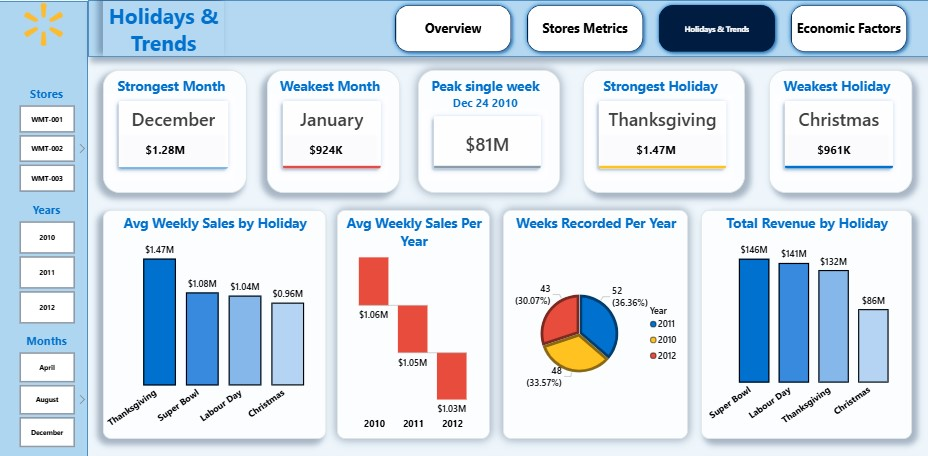

The dashboard page shown, as its layout file describes it:
{"tool":"powerbi","page":{"name":"Holidays & Trends","canvas":[1650,810],"ordinal":2},"visuals":[{"type":"shape","box":[0,1,157.9,809],"z":0},{"type":"shape","title":"Walmart Stores Analytical Dashboard","box":[157.9,0,1492.1,101.1],"z":1000},{"type":"image","box":[0,0,157.9,86.9],"z":2000},{"type":"slicer","title":"Years","fields":{"Values":["Walmart_Sales.Year"]},"box":[0,357.7,158.5,217.5],"z":3000},{"type":"slicer","title":"Months","fields":{"Values":["Calendar.Month_Name"]},"box":[0,589.9,158.5,204.6],"z":4000},{"type":"slicer","title":"Stores","fields":{"Values":["Walmart_Sales.Store_ID"]},"box":[0,153,158.5,189.9],"z":5000},{"type":"pageNavigator","box":[693.7,0,926.1,101.1],"z":6000},{"type":"cardVisual","title":"Strongest Month","fields":{"Data":["Walmart_Sales.Strongest Month"]},"box":[191.6,124.2,248.4,218.2],"z":7000},{"type":"cardVisual","title":"Weakest Month","fields":{"Data":["Walmart_Sales.Weakest Month"]},"box":[473.7,124.2,236,218.2],"z":8000},{"type":"cardVisual","title":"Peak single week","fields":{"Data":["Walmart_Sales.Peak Single Week"]},"box":[743.4,124.2,251.9,218.2],"z":9000},{"type":"cardVisual","title":"Strongest Holiday","fields":{"Data":["Walmart_Sales.Strongest Holiday"]},"box":[1036.1,124.2,287.4,218.2],"z":10000},{"type":"cardVisual","title":"Weakest Holiday","fields":{"Data":["Walmart_Sales.Weakest Holiday"]},"box":[1366.1,124.2,253.7,218.2],"z":11000},{"type":"clusteredColumnChart","title":"Avg Weekly Sales by Holiday","fields":{"Category":["Walmart_Sales.Holiday_Name"],"Y":["Walmart_Sales.Avg Weekly Sales"]},"box":[177.4,358.4,349.5,420.5],"z":12000},{"type":"clusteredColumnChart","title":"Total Revenue by Holiday","fields":{"Category":["Walmart_Sales.Holiday_Name"],"Y":["Walmart_Sales.Total Revenue"]},"box":[1245.5,358.4,386.8,420.5],"z":13000},{"type":"waterfallChart","title":"Avg Weekly Sales Per Year","fields":{"Category":["Walmart_Sales.Year"],"Y":["Walmart_Sales.Avg Weekly Sales"]},"box":[550,358.4,326.5,420.5],"z":14000},{"type":"pieChart","title":"Weeks Recorded Per Year","fields":{"Category":["Walmart_Sales.Year"],"Y":["Count(Walmart_Sales.Date)"]},"box":[894.2,358.4,328.2,420.5],"z":15000},{"type":"textbox","title":"Holidays & Trends","box":[184.5,1.8,214.7,99.4],"z":16000}]}

Visuals, with their boxes in screenshot pixels (x1, y1, x2, y2), scaled from the page's 1650x810 canvas onto the 928x456 screenshot:
shape: 0/1/89/455
"Walmart Stores Analytical Dashboard" shape: 89/0/927/57
image: 0/0/89/49
"Years" slicer: 0/201/89/324
"Months" slicer: 0/332/89/447
"Stores" slicer: 0/86/89/193
pageNavigator: 390/0/911/57
"Strongest Month" cardVisual: 108/70/247/193
"Weakest Month" cardVisual: 266/70/399/193
"Peak single week" cardVisual: 418/70/560/193
"Strongest Holiday" cardVisual: 583/70/744/193
"Weakest Holiday" cardVisual: 768/70/911/193
"Avg Weekly Sales by Holiday" clusteredColumnChart: 100/202/296/438
"Total Revenue by Holiday" clusteredColumnChart: 700/202/918/438
"Avg Weekly Sales Per Year" waterfallChart: 309/202/493/438
"Weeks Recorded Per Year" pieChart: 503/202/688/438
"Holidays & Trends" textbox: 104/1/225/57
